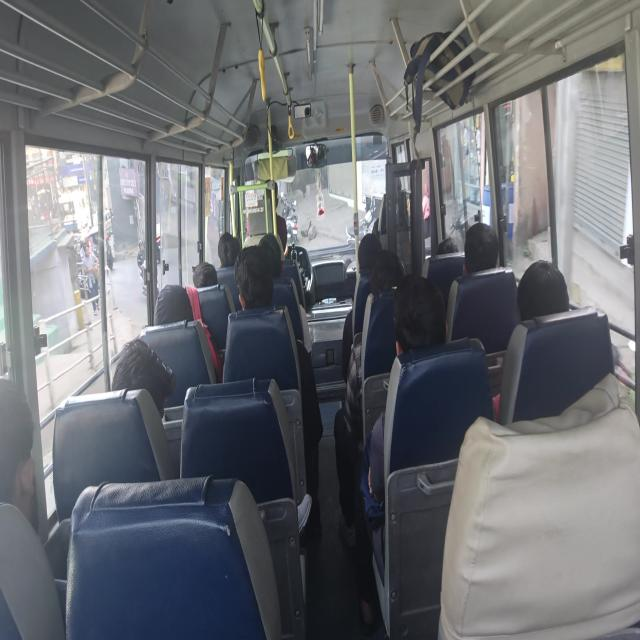person: (356, 273, 448, 633), (228, 244, 323, 535), (334, 249, 405, 545), (0, 378, 67, 637), (492, 259, 570, 422), (445, 221, 499, 340), (341, 232, 383, 382), (0, 378, 38, 531), (111, 336, 175, 421), (153, 260, 218, 324), (516, 259, 570, 321), (234, 245, 274, 310), (463, 221, 499, 274), (82, 242, 99, 314), (217, 232, 240, 268), (192, 261, 218, 288), (136, 239, 146, 295), (422, 182, 431, 238), (436, 236, 458, 255)
